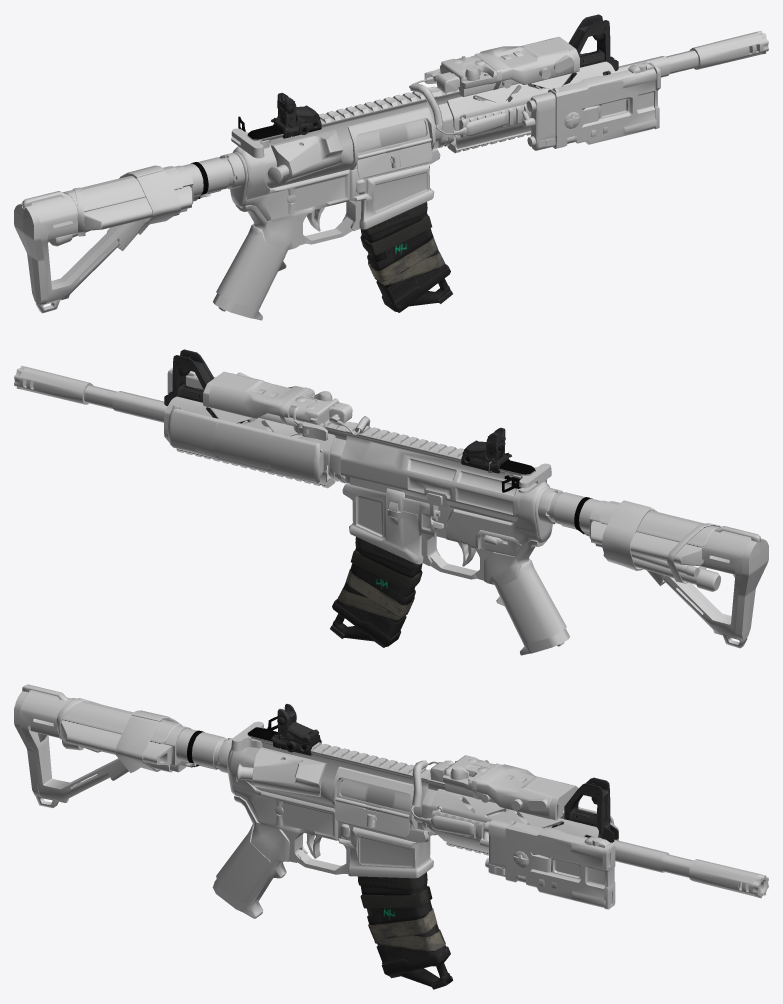
File: Rifle.fbx
3 renders of one model, top to bottom at view 1: azimuth 30°, elevation 25°; view 2: azimuth 150°, elevation 25°; view 3: azimuth 330°, elevation 25°, orthographic.
Visible parts, largest first — view 1: weapon_kb_m4_wm_camo_LOD0; view 2: weapon_kb_m4_wm_camo_LOD0; view 3: weapon_kb_m4_wm_camo_LOD0.
Part boxes in pixels (x1=…): weapon_kb_m4_wm_camo_LOD0: x1=14, y1=14, x2=768, y2=320; weapon_kb_m4_wm_camo_LOD0: x1=14, y1=349, x2=768, y2=655; weapon_kb_m4_wm_camo_LOD0: x1=14, y1=684, x2=768, y2=989.
Bounding box in the file's own units: 821 × 259 × 92.66.
